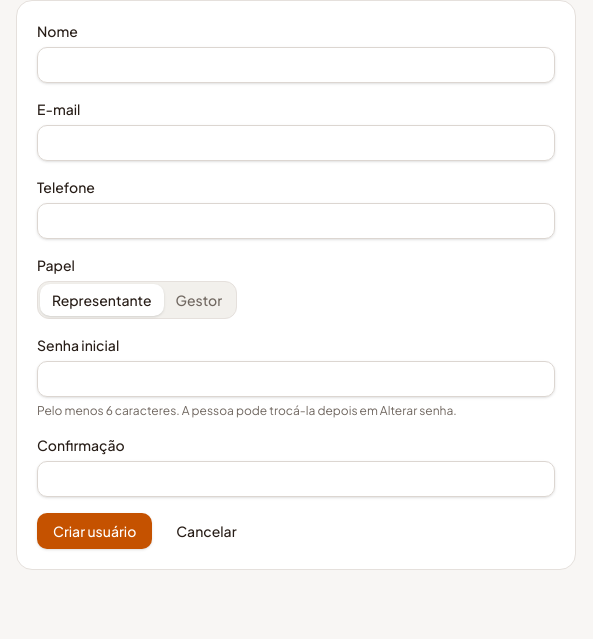
Test: NovoUsuarioPage › exige nome e e-mail válido
Type "bruna" into the field labelled "E-mail" at (296, 143), box [37,125,555,161]
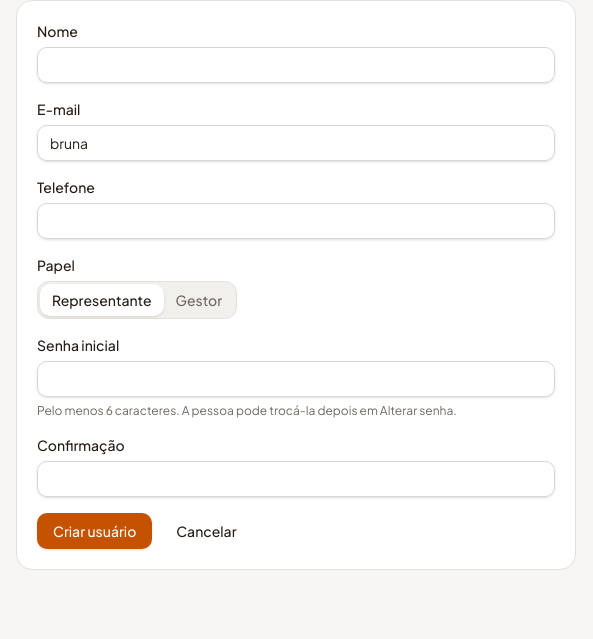
Type "segredo1" into the password field labelled "Senha inicial" at (296, 379), box [37,361,555,397]
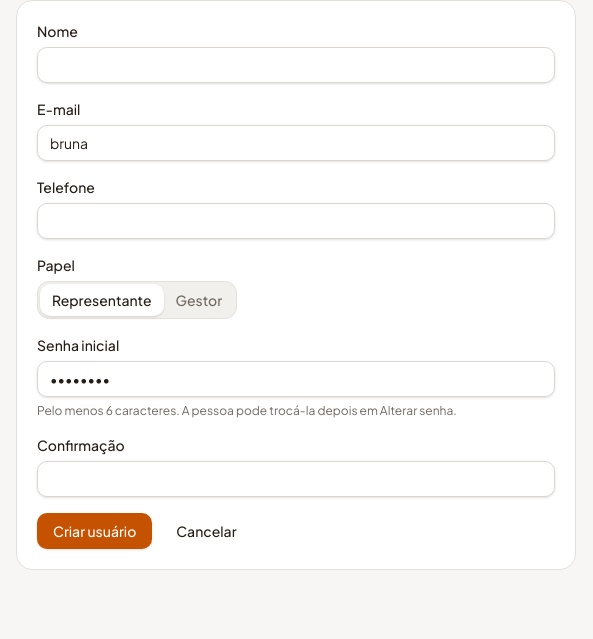
Type "segredo1" into the password field labelled "Confirmação" at (296, 479), box [37,461,555,497]
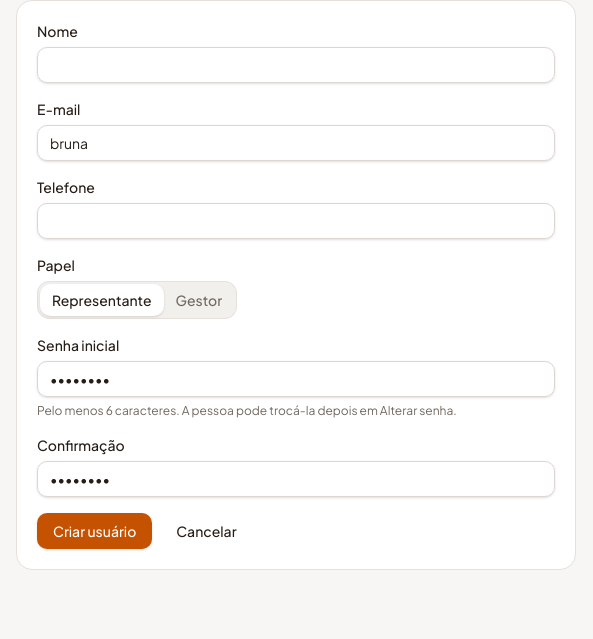
Click the button "Criar usuário" at (95, 531), box [37,513,152,549]
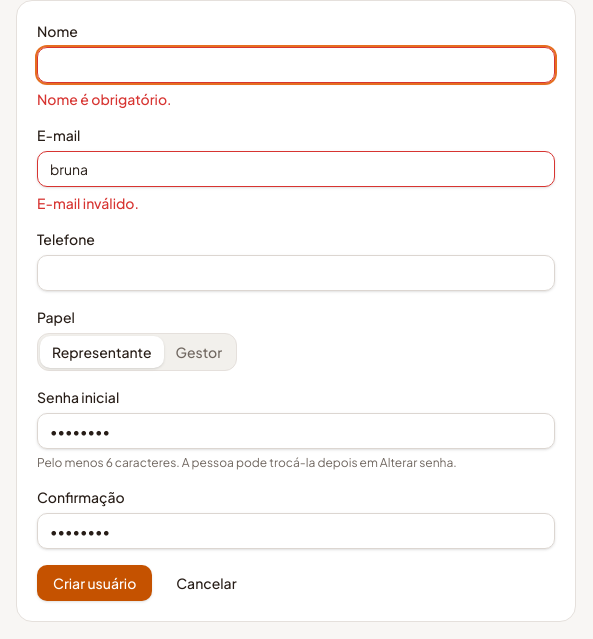
Expected: the text "Nome é obrigatório." is shown, [37,90,172,108]
Expected: the text "E-mail inválido." is shown, [37,194,139,212]
